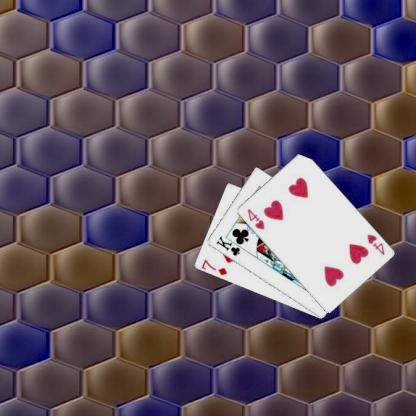4H: (364, 232, 386, 256), (245, 206, 266, 231)
7D: (199, 256, 228, 276)
KC: (213, 233, 246, 258)
